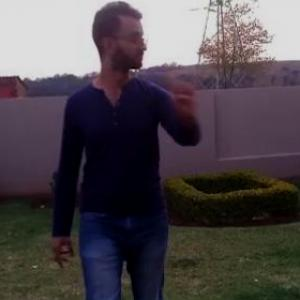takeoff-hand: (164, 53, 205, 113)
